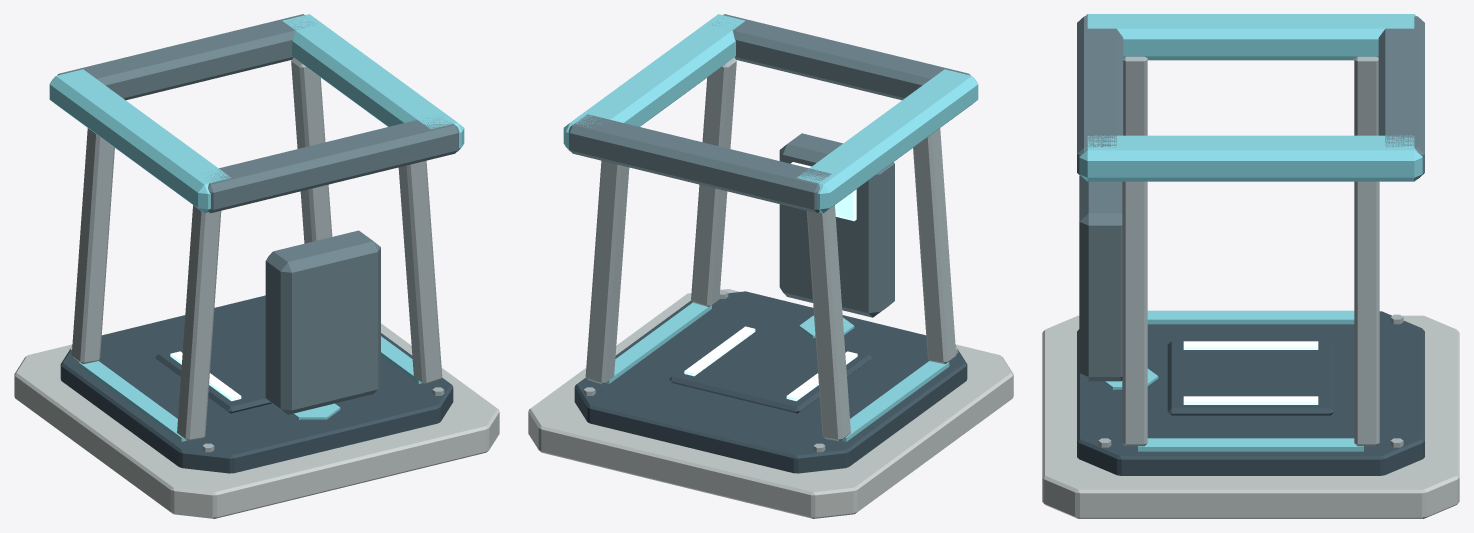
Rendered from respawn.glb.
3 renders of one model, left to right at view 1: azimuth 30°, elevation 25°; view 2: azimuth 150°, elevation 25°; view 3: azimuth 270°, elevation 25°, orthographic. The views are drawn at different scales.
Visible parts, largest first — view 1: asset_respawn__FP_Armour, asset_respawn__FP_Dark, foundation, asset_respawn__FP_Steel, asset_respawn__FP_Team; view 2: asset_respawn__FP_Dark, asset_respawn__FP_Armour, asset_respawn__FP_Steel, foundation, asset_respawn__FP_Team, asset_respawn__FP_Signal; view 3: asset_respawn__FP_Dark, asset_respawn__FP_Team, foundation, asset_respawn__FP_Armour, asset_respawn__FP_Steel, asset_respawn__FP_Signal.
Boxes of the visible parts, bbox=[...] form: asset_respawn__FP_Armour: bbox=[57, 14, 459, 414]; asset_respawn__FP_Dark: bbox=[60, 295, 453, 473]; foundation: bbox=[14, 323, 499, 518]; asset_respawn__FP_Steel: bbox=[69, 57, 444, 452]; asset_respawn__FP_Team: bbox=[49, 14, 464, 441]; asset_respawn__FP_Dark: bbox=[574, 291, 967, 473]; asset_respawn__FP_Armour: bbox=[568, 14, 970, 317]; asset_respawn__FP_Steel: bbox=[583, 57, 958, 452]; foundation: bbox=[528, 289, 1013, 518]; asset_respawn__FP_Team: bbox=[563, 14, 978, 441]; asset_respawn__FP_Signal: bbox=[684, 162, 857, 401]; asset_respawn__FP_Dark: bbox=[1077, 311, 1424, 475]; asset_respawn__FP_Team: bbox=[1079, 14, 1422, 451]; foundation: bbox=[1042, 315, 1459, 518]; asset_respawn__FP_Armour: bbox=[1077, 16, 1424, 381]; asset_respawn__FP_Steel: bbox=[1098, 56, 1403, 447]; asset_respawn__FP_Signal: bbox=[1183, 341, 1318, 404].
Bounding box in the file's own units: 1.8 × 1.67 × 1.8.
